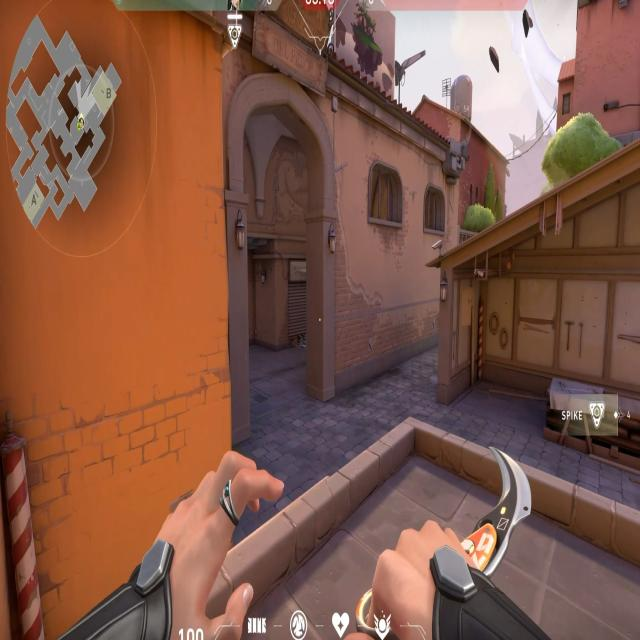B_Garage_Left: (438, 251, 574, 428)
Throwables: (366, 156, 405, 234), (424, 180, 447, 240)
